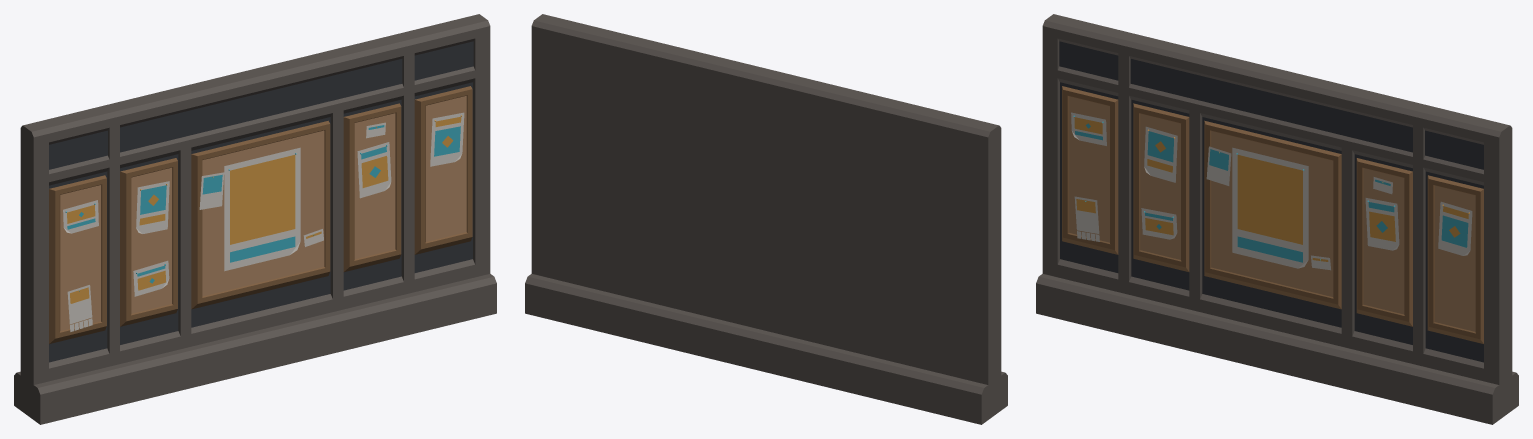
The model's file is noticeboard-wall-run-1f7ea8.glb.
The picture shows the model from 3 angles, left to right: view 1: azimuth 30°, elevation 25°; view 2: azimuth 150°, elevation 25°; view 3: azimuth 330°, elevation 25°; orthographic projection.
Size of the model in its own units: 3 by 1.8 by 0.3.
